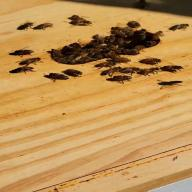Bee: (37, 70, 72, 83), (4, 66, 37, 79), (30, 19, 55, 34), (161, 21, 192, 33), (12, 56, 49, 66), (103, 74, 140, 84), (12, 20, 36, 34), (61, 68, 88, 78), (136, 55, 163, 65), (9, 45, 33, 56)
